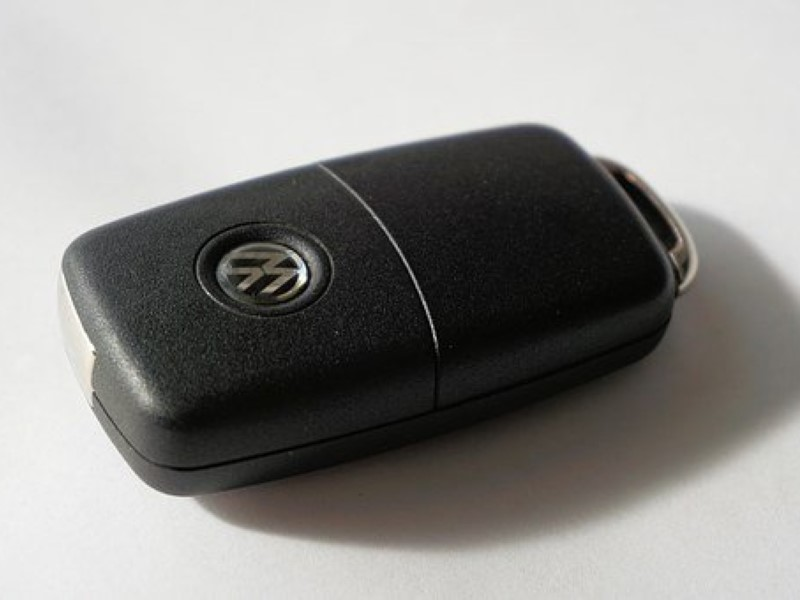carkey: (53, 118, 702, 499)
